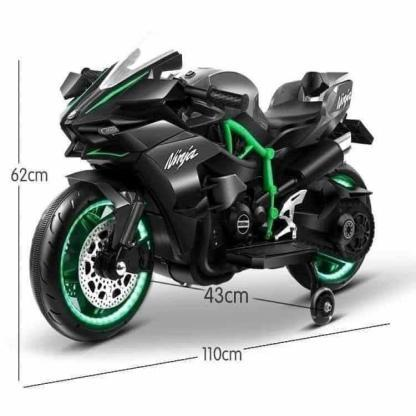Motorcycle: (32, 57, 377, 348)
